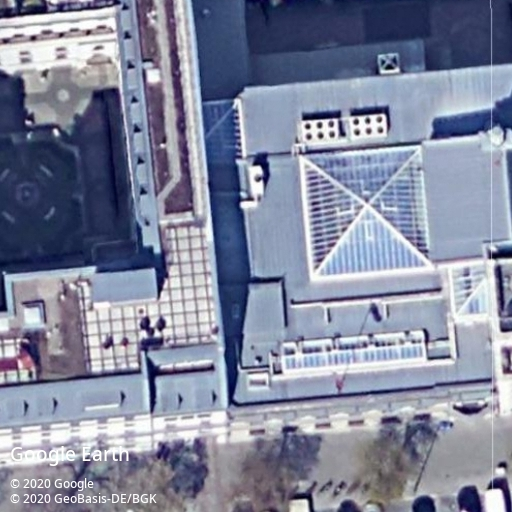Chiller: (349, 113, 389, 140), (300, 118, 339, 142)
